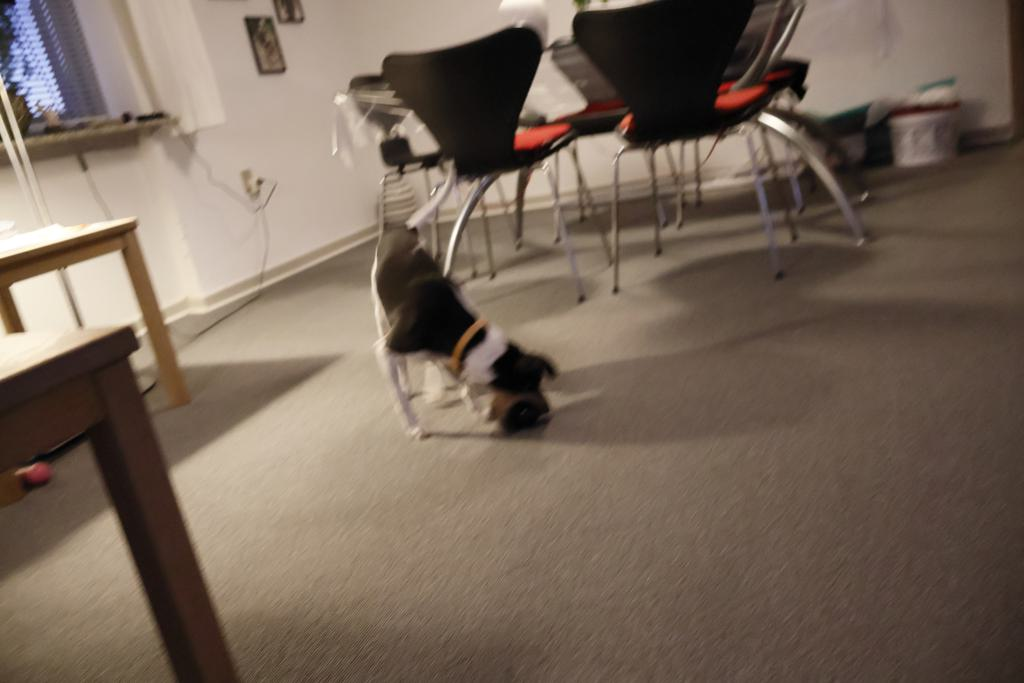Dog: (361, 154, 573, 451)
